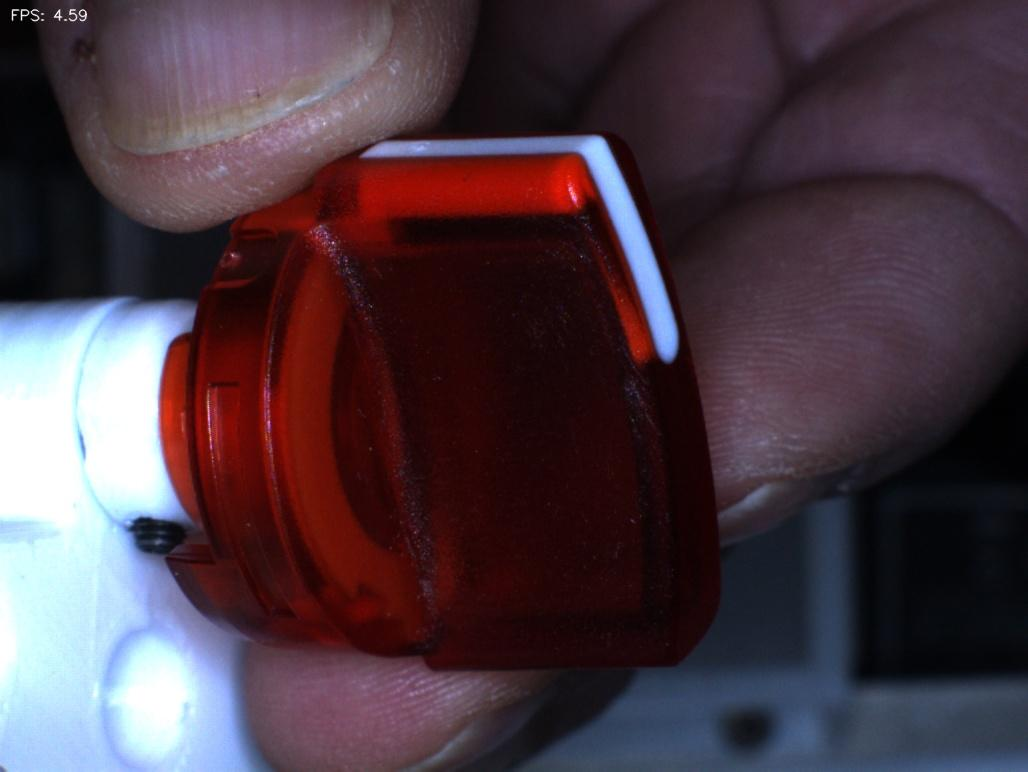Givrage: (563, 336, 661, 483)
